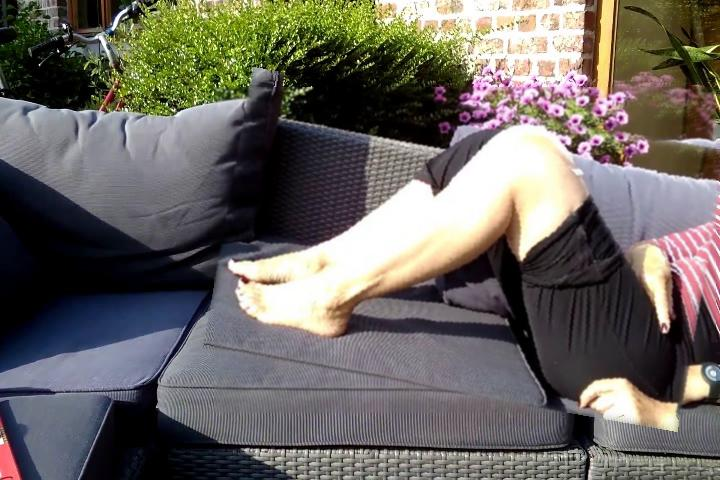lower_body: (215, 88, 717, 414)
